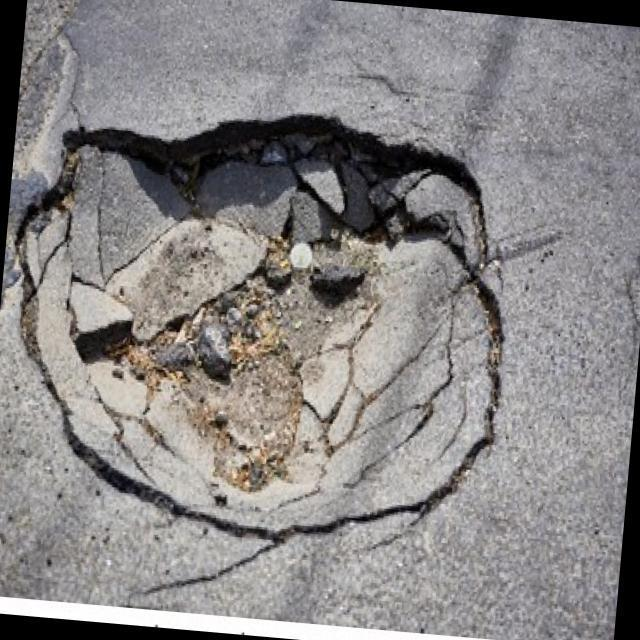pothole: (0, 85, 525, 559)
